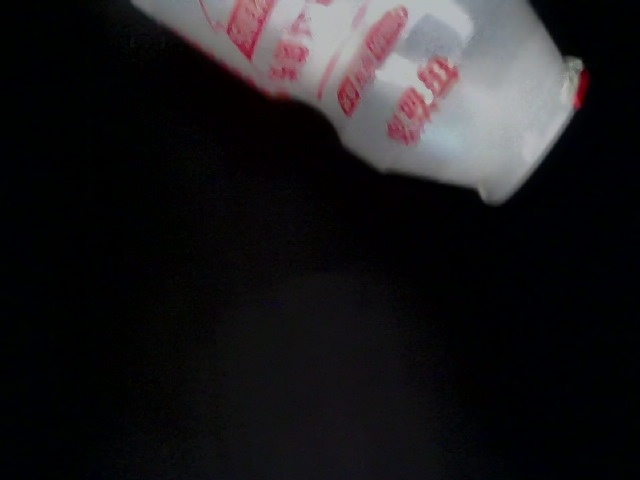CYLJ: (20, 1, 122, 97)
